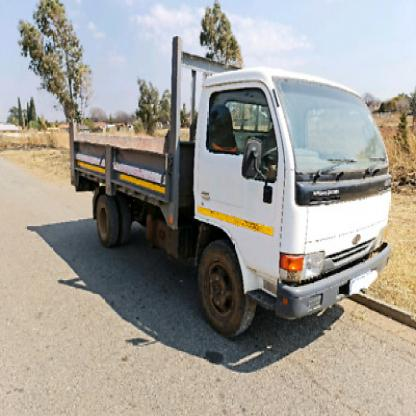dump_truck: (47, 26, 401, 367)
